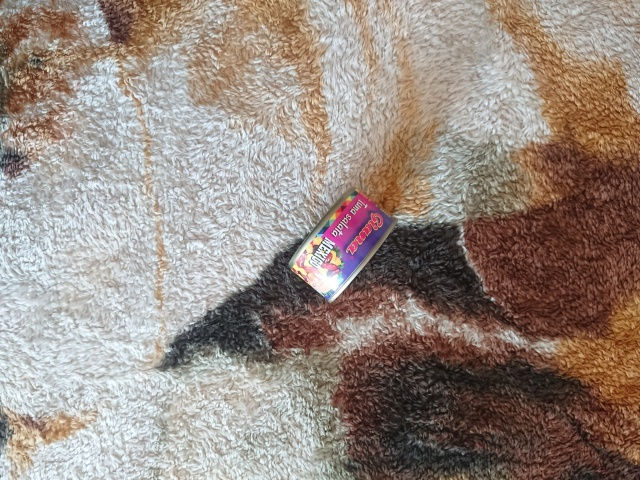Giana Tuna Salad Mexico 185g: (285, 184, 399, 306)
